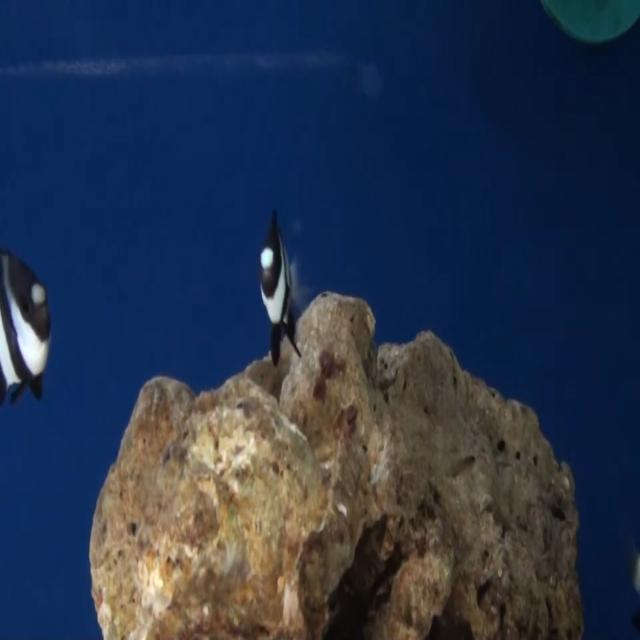ThreeStripedDamselfish: (255, 204, 304, 366)
